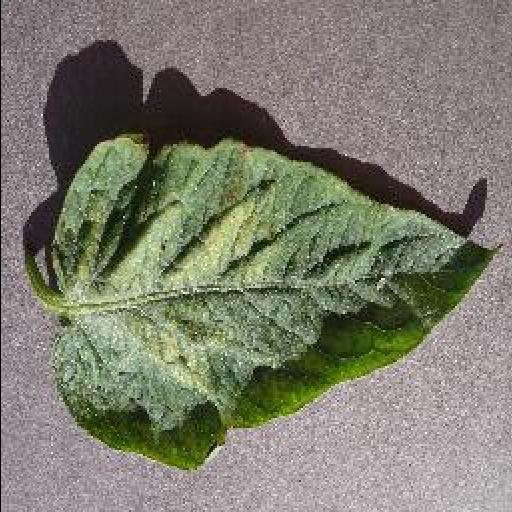disease_tomato: (49, 135, 499, 473)
